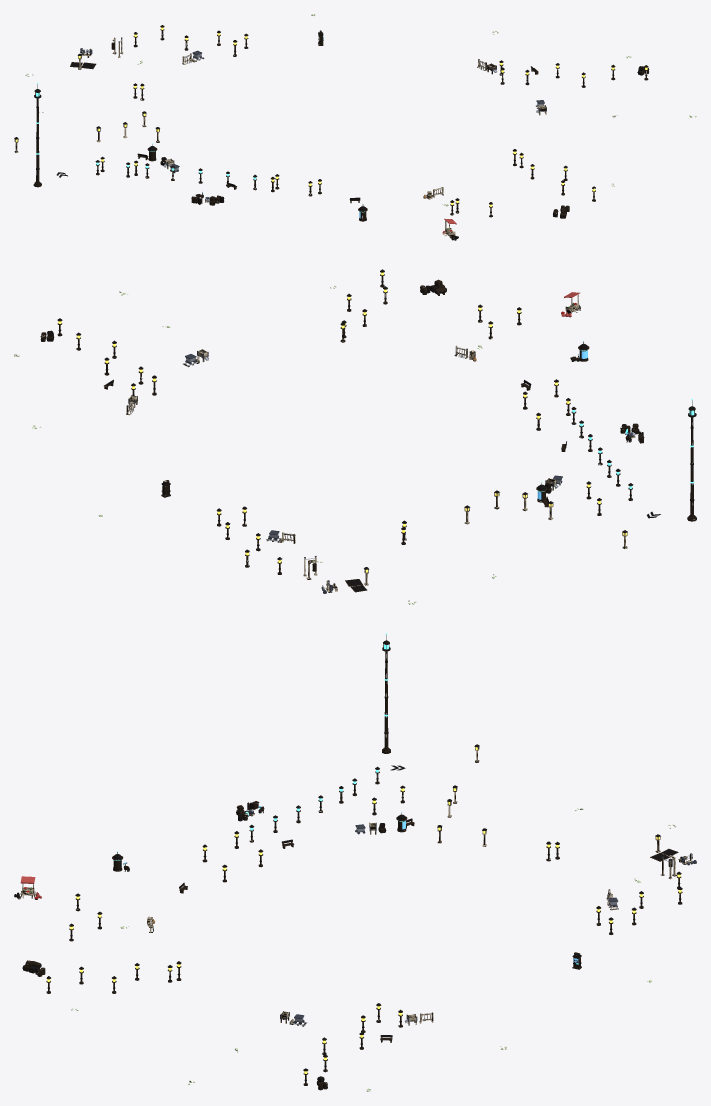
Rendered from ILHA2_09_PROPS_1d00de.fbx.
The picture shows the model from 3 angles, top to bottom: view 1: azimuth 30°, elevation 25°; view 2: azimuth 150°, elevation 25°; view 3: azimuth 270°, elevation 25°; orthographic projection. The views are drawn at different scales.
Visible parts, largest first — view 1: DB_Prop_Capsule__Plaster_DB_White_g13_9, DB_Prop_Capsule__Plaster_DB_White_g12_10, DB_Prop_Capsule__Plaster_DB_Navy_g13_9, DB_Prop_Capsule__Roof_DB_Blue_g13_9; view 2: DB_Prop_Capsule__Plaster_DB_White_g13_9, DB_Prop_Capsule__Plaster_DB_White_g12_10, DB_Prop_Capsule__Plaster_DB_Navy_g13_9, DB_Prop_Capsule__Roof_DB_Blue_g13_9; view 3: DB_Prop_Capsule__Plaster_DB_White_g13_9, DB_Prop_Capsule__Plaster_DB_White_g12_10, DB_Prop_Capsule__Roof_DB_Blue_g13_9, DB_Prop_Capsule__Plaster_DB_Navy_g13_9.
Boxes of the visible parts, x1,y1,x2,y2 form: DB_Prop_Capsule__Plaster_DB_White_g13_9: [196, 61, 648, 220]; DB_Prop_Capsule__Plaster_DB_White_g12_10: [34, 26, 174, 184]; DB_Prop_Capsule__Plaster_DB_Navy_g13_9: [33, 38, 649, 221]; DB_Prop_Capsule__Roof_DB_Blue_g13_9: [135, 30, 647, 219]; DB_Prop_Capsule__Plaster_DB_White_g13_9: [47, 270, 640, 450]; DB_Prop_Capsule__Plaster_DB_White_g12_10: [245, 407, 695, 573]; DB_Prop_Capsule__Plaster_DB_Navy_g13_9: [40, 280, 696, 574]; DB_Prop_Capsule__Roof_DB_Blue_g13_9: [46, 269, 643, 546]; DB_Prop_Capsule__Plaster_DB_White_g13_9: [23, 803, 402, 1085]; DB_Prop_Capsule__Plaster_DB_White_g12_10: [318, 642, 682, 902]; DB_Prop_Capsule__Roof_DB_Blue_g13_9: [22, 802, 643, 1083]; DB_Prop_Capsule__Plaster_DB_Navy_g13_9: [24, 635, 682, 1089].
Bounding box in the file's own units: 288 × 52.23 × 251.
Materials: 13 (4 with a texture image).
